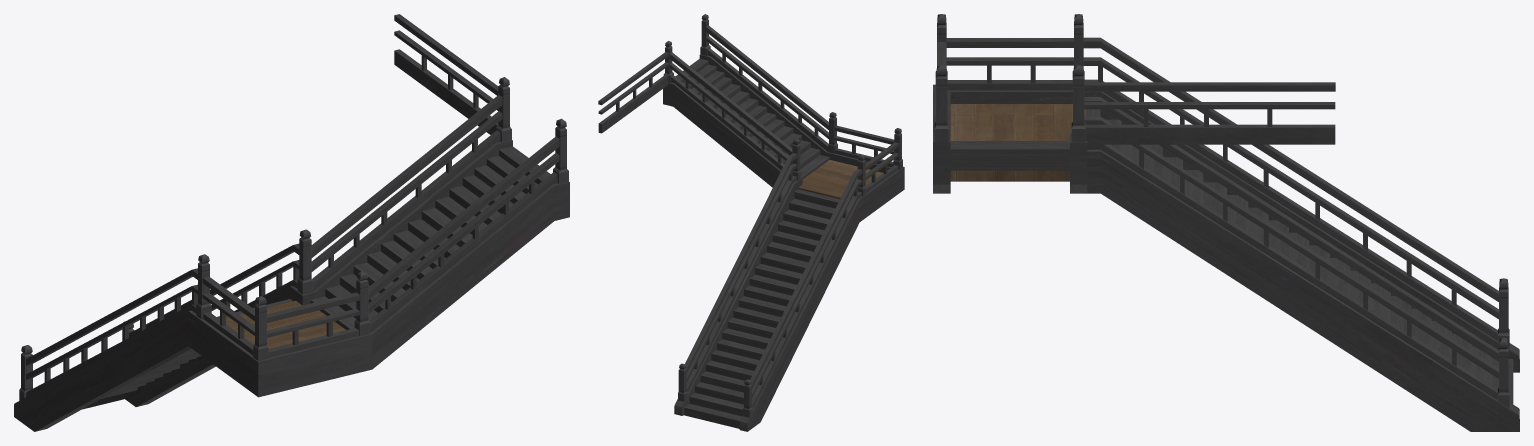
Rendered from Homeworld_Interior_Dq_Room_P_Stair_01_Vo.fbx.
3 renders of one model, left to right at view 1: azimuth 30°, elevation 25°; view 2: azimuth 150°, elevation 25°; view 3: azimuth 270°, elevation 25°, orthographic. The views are drawn at different scales.
Visible parts, largest first — view 1: Homeworld_Interior_Dq_Room_P_Stair_01_Vo; view 2: Homeworld_Interior_Dq_Room_P_Stair_01_Vo; view 3: Homeworld_Interior_Dq_Room_P_Stair_01_Vo.
Boxes of the visible parts, x1,y1,x2,y2 form: Homeworld_Interior_Dq_Room_P_Stair_01_Vo: [14, 14, 569, 431]; Homeworld_Interior_Dq_Room_P_Stair_01_Vo: [598, 14, 904, 431]; Homeworld_Interior_Dq_Room_P_Stair_01_Vo: [933, 14, 1519, 431].
Bounding box in the file's own units: 4.78 × 5.87 × 6.49.
